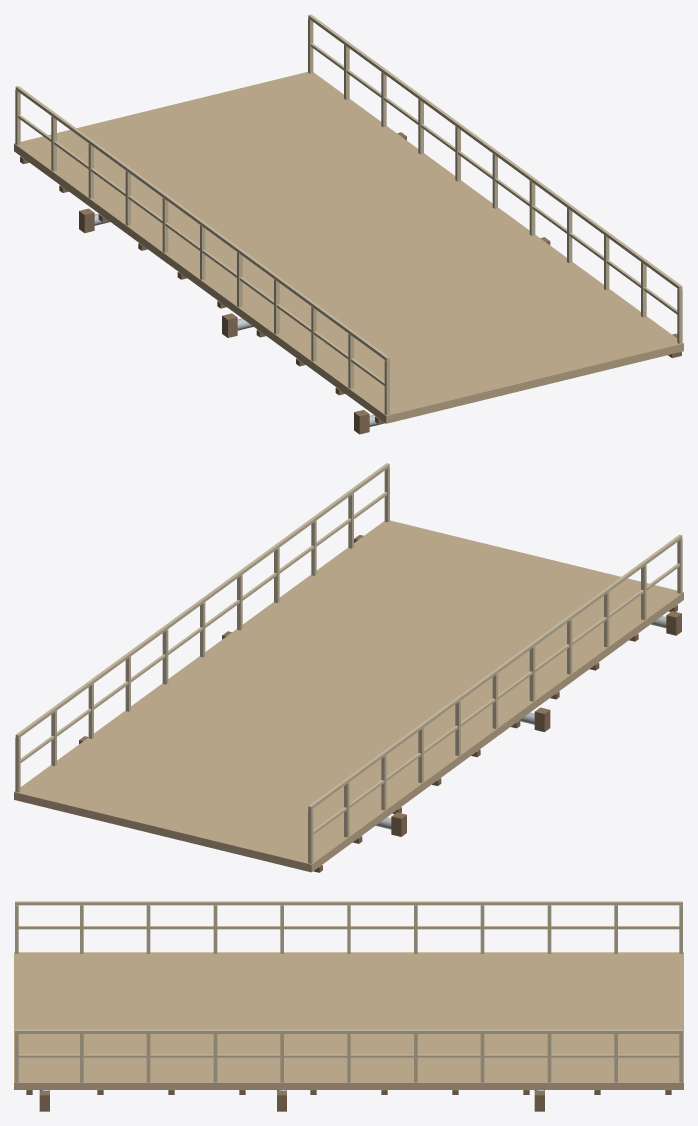
The model's file is gangplank_rail_road.glb.
3 renders of one model, top to bottom at view 1: azimuth 30°, elevation 25°; view 2: azimuth 150°, elevation 25°; view 3: azimuth 270°, elevation 25°, orthographic. The views are drawn at different scales.
Parts seen in each view (by area): view 1: plank, bridge; view 2: plank, bridge; view 3: plank, bridge.
Part boxes in pixels (x1,y1,x2,y2): plank: (14, 14, 683, 424); bridge: (79, 132, 681, 434); plank: (14, 463, 683, 872); bridge: (79, 535, 681, 836); plank: (14, 901, 683, 1094); bridge: (39, 1090, 544, 1111).
Size of the model in its own units: 6.5 by 1.6 by 13.
